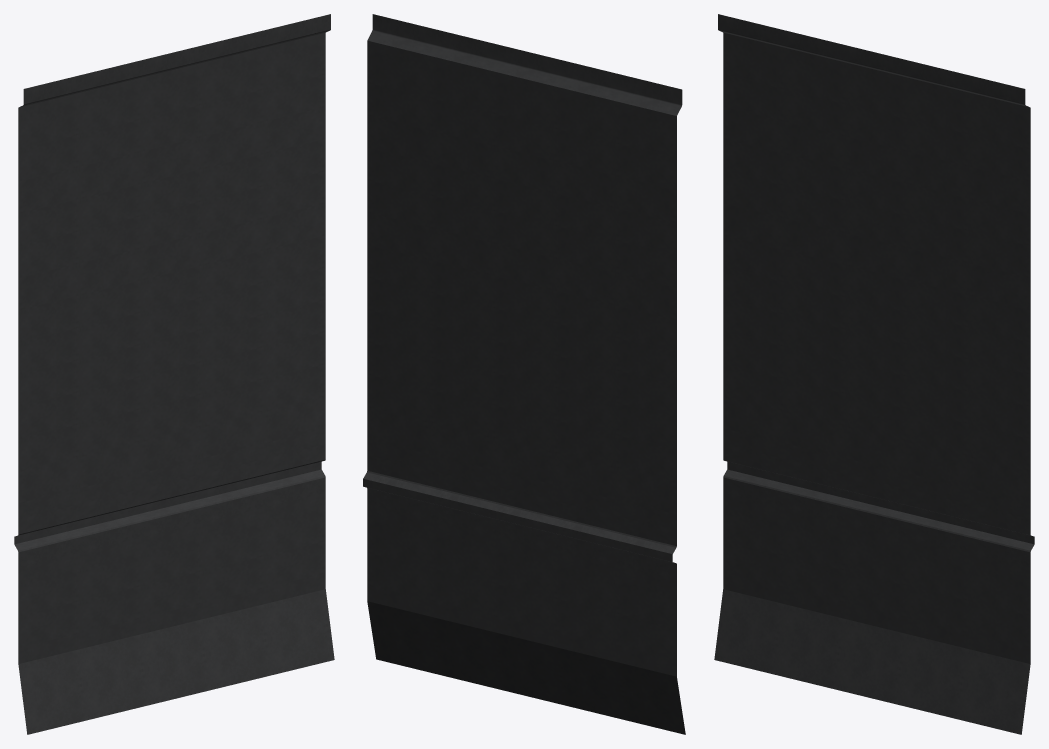
File: M_Wall_Straight_10x20_v2.fbx
The picture shows the model from 3 angles, left to right: view 1: azimuth 30°, elevation 25°; view 2: azimuth 150°, elevation 25°; view 3: azimuth 330°, elevation 25°; orthographic projection.
Visible parts, largest first — view 1: Wall_Straight_10x20_v2; view 2: Wall_Straight_10x20_v2; view 3: Wall_Straight_10x20_v2.
Boxes of the visible parts, <box> form: Wall_Straight_10x20_v2: <box>14,14,334,734</box>; Wall_Straight_10x20_v2: <box>363,14,685,734</box>; Wall_Straight_10x20_v2: <box>714,14,1034,734</box>.
Size of the model in its own units: 1000 by 2000 by 73.02.
